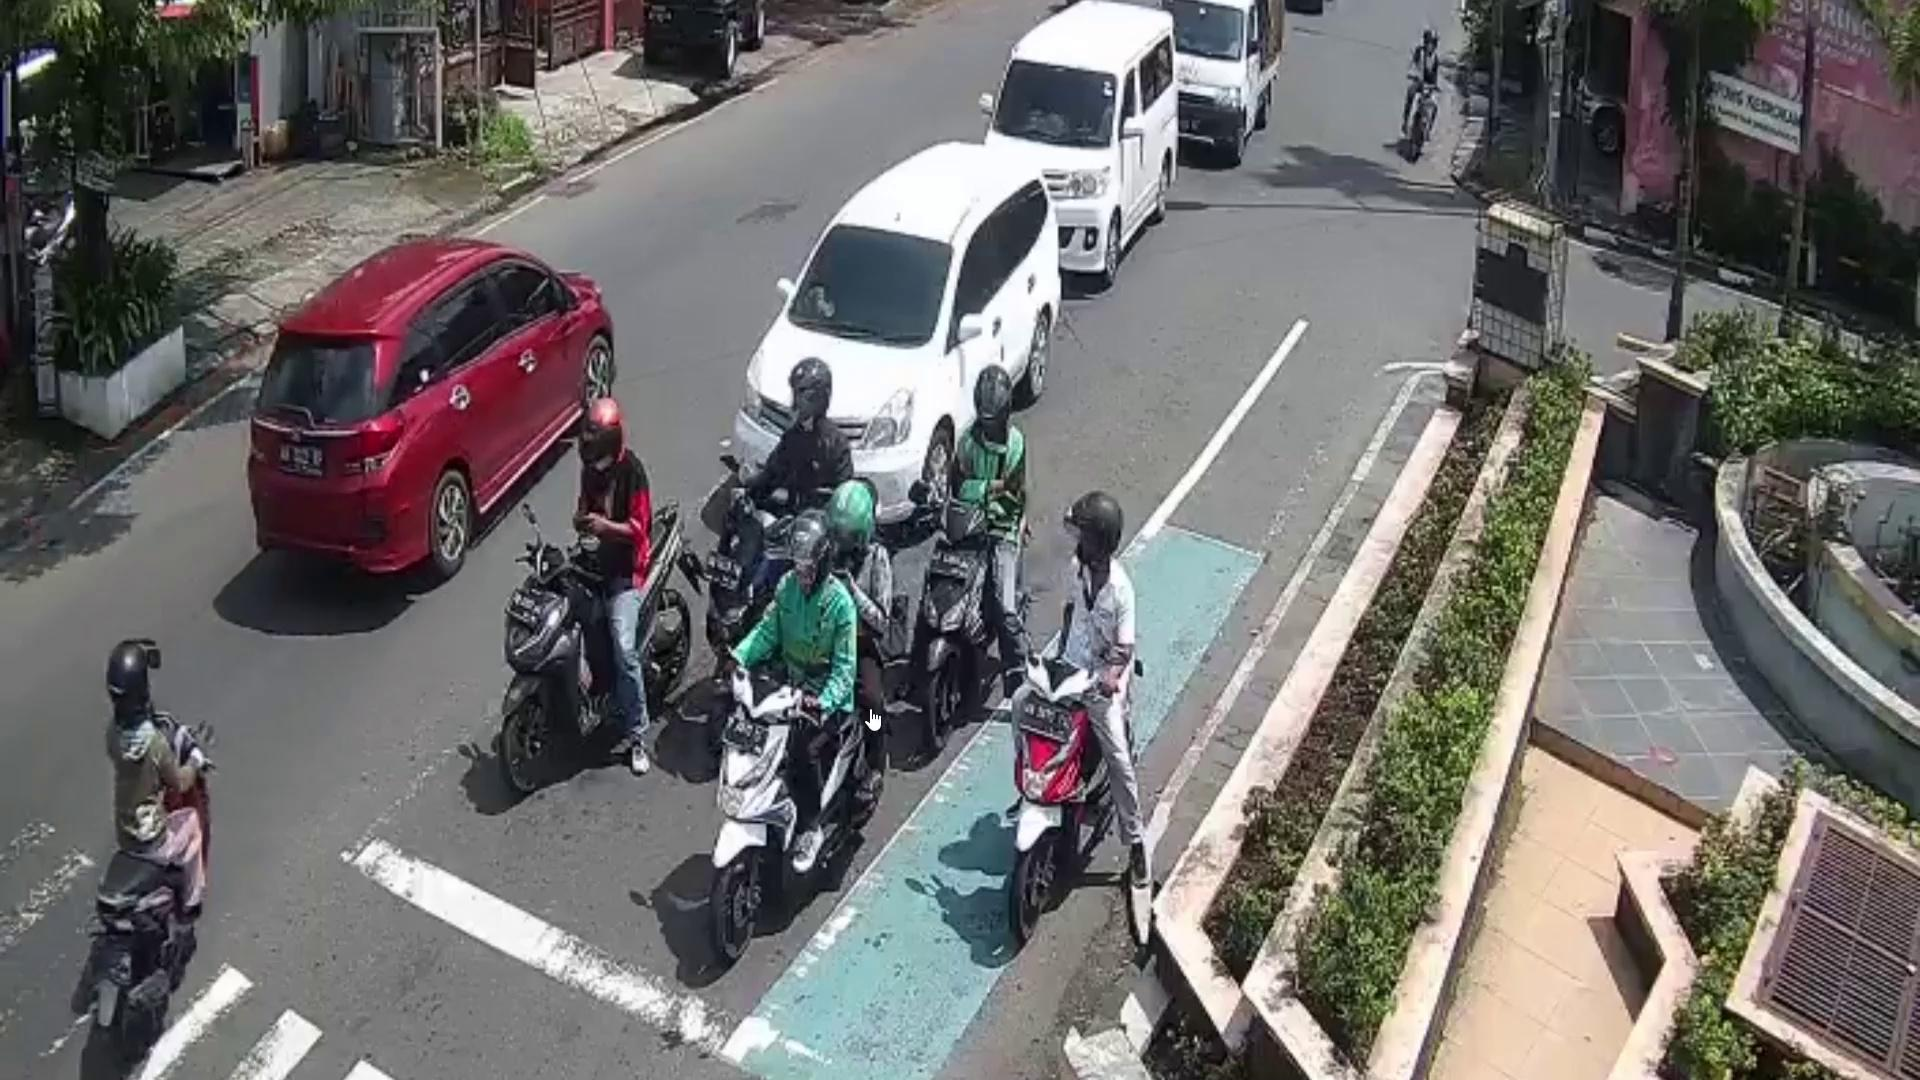car: (728, 137, 1062, 538), (251, 235, 612, 582), (989, 0, 1180, 273), (1163, 0, 1280, 158)
motorbike: (489, 501, 702, 800), (711, 669, 870, 959), (87, 712, 211, 1062), (1013, 653, 1116, 936), (914, 501, 998, 753), (1404, 71, 1439, 166)
